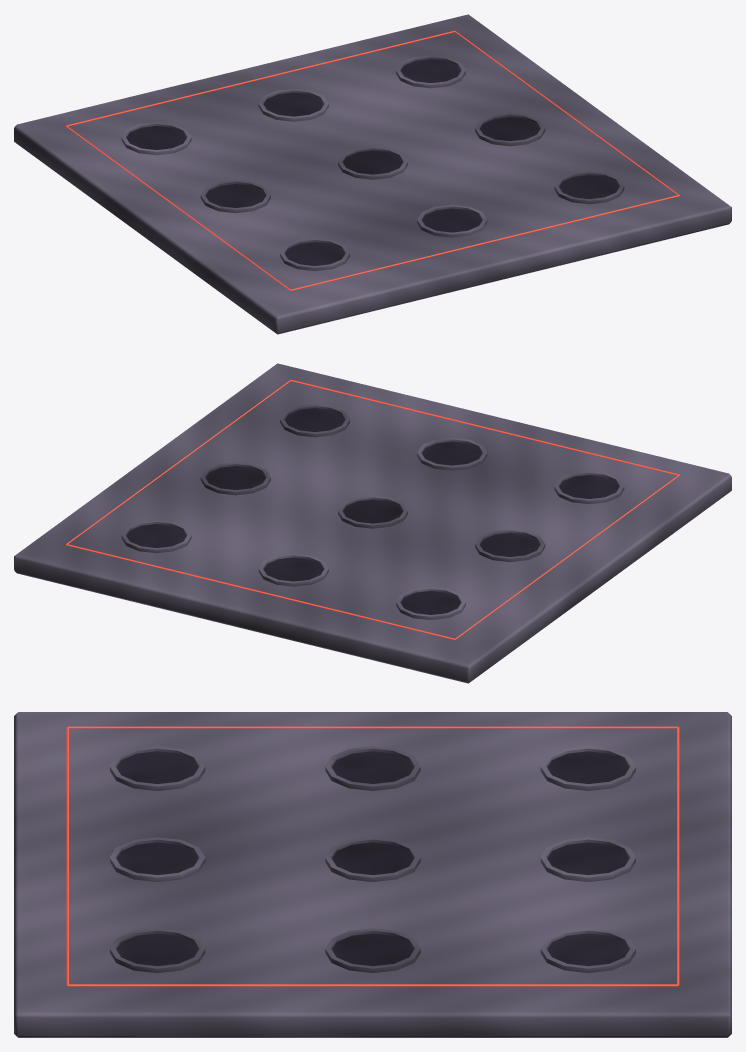
File: Furn_Dun_TrapFloor.fbx
3 renders of one model, top to bottom at view 1: azimuth 30°, elevation 25°; view 2: azimuth 150°, elevation 25°; view 3: azimuth 270°, elevation 25°, orthographic. The views are drawn at different scales.
Parts seen in each view (by area): view 1: Furn_Dun_TrapFloor; view 2: Furn_Dun_TrapFloor; view 3: Furn_Dun_TrapFloor.
Boxes of the visible parts, left/top/right/bottom form: Furn_Dun_TrapFloor: left=14, top=14, right=731, bottom=334; Furn_Dun_TrapFloor: left=14, top=363, right=731, bottom=683; Furn_Dun_TrapFloor: left=14, top=712, right=731, bottom=1037.
Size of the model in its own units: 2 by 0.1 by 2.
3 materials, 2 textured.
